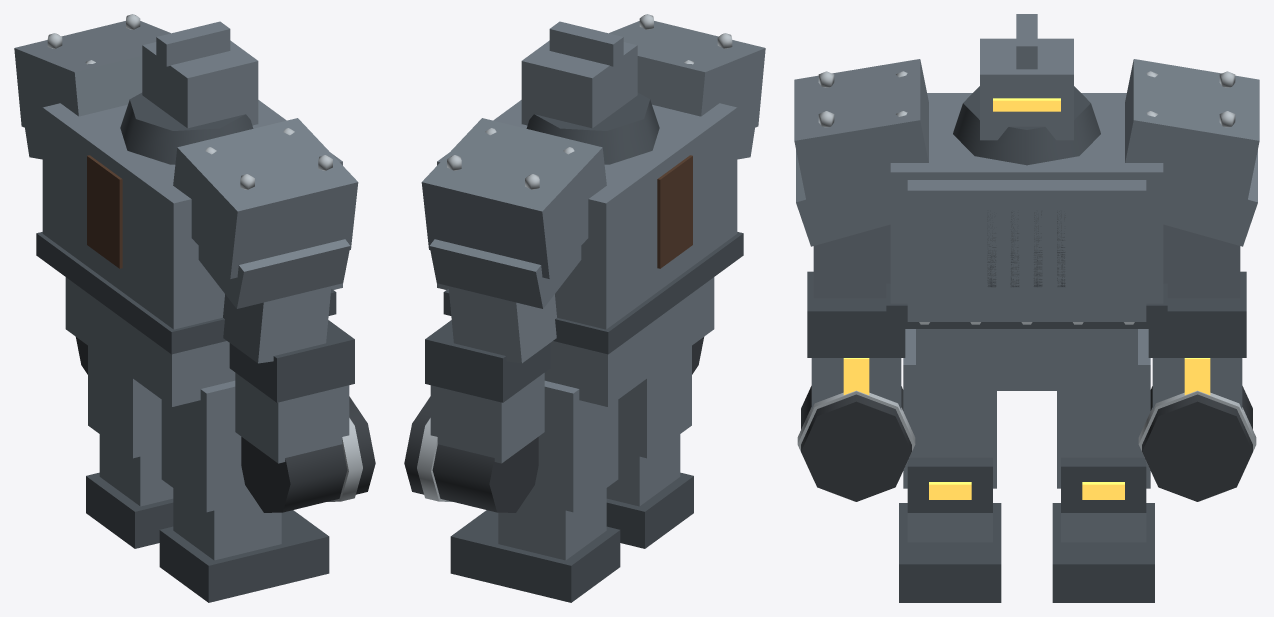
The model's file is enemy_boss_iron.glb.
3 renders of one model, left to right at view 1: azimuth 30°, elevation 25°; view 2: azimuth 150°, elevation 25°; view 3: azimuth 270°, elevation 25°, orthographic. The views are drawn at different scales.
Parts seen in each view (by area): view 1: torso, pauldron_l, pauldron_r, thigh_l, hips, foot_l, head, arm_l_lower, fist_l, arm_l_upper, pauldron_l_lower, thigh_r (+9 smaller); view 2: torso, pauldron_r, pauldron_l, thigh_r, hips, foot_r, head, arm_r_lower, fist_r, arm_r_upper, pauldron_r_lower, thigh_l (+9 smaller); view 3: chest_plate, pauldron_l, pauldron_r, torso, hips, fist_l, fist_r, head, foot_l, foot_r, thigh_l, thigh_r (+23 smaller).
Part boxes in pixels (x1,y1,x2,y2): torso: (42,103,272,329); pauldron_l: (173,118,358,278); pauldron_r: (14,21,170,134); thigh_l: (161,380,255,512); hips: (65,277,235,406); foot_l: (159,510,329,602); head: (142,40,258,128); arm_l_lower: (235,373,349,463); fist_l: (241,396,375,512); arm_l_upper: (223,286,331,363); pauldron_l_lower: (198,239,350,308); thigh_r: (88,346,161,458); torso: (507,103,737,329); pauldron_r: (421,118,606,278); pauldron_l: (609,21,765,134); thigh_r: (524,380,618,512); hips: (544,277,714,406); foot_r: (450,510,620,602); head: (521,40,637,128); arm_r_lower: (430,373,544,463); fist_r: (404,396,538,512); arm_r_upper: (448,286,556,363); pauldron_r_lower: (429,239,581,308); thigh_l: (618,346,691,458); chest_plate: (907,180,1146,321); pauldron_l: (794,59,928,216); pauldron_r: (1125,59,1259,216); torso: (890,93,1163,303); hips: (916,329,1137,390); fist_l: (801,386,911,501); fist_r: (1142,386,1252,501); head: (980,38,1073,140); foot_l: (899,503,1001,602); foot_r: (1052,503,1154,602); thigh_l: (903,329,996,488); thigh_r: (1057,329,1150,488).
Bounding box in the file's own units: 0.257 × 0.692 × 0.5455.
